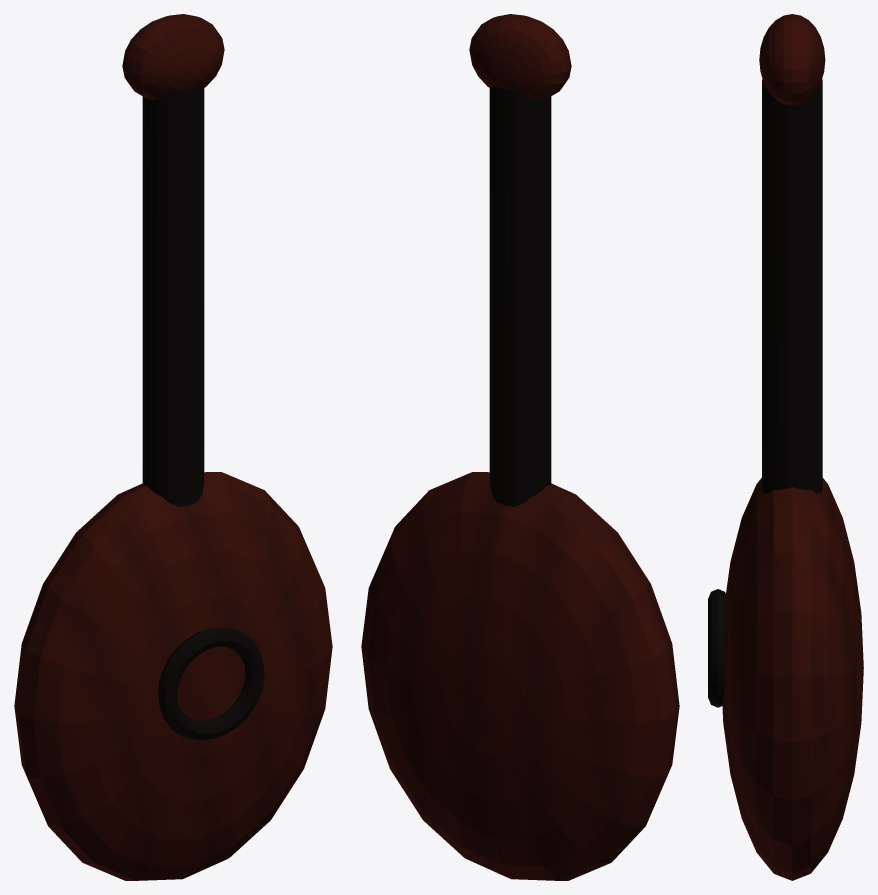
File: instrumento.obj
3 views of the same model, side by side, from view 1: azimuth 30°, elevation 25°; view 2: azimuth 150°, elevation 25°; view 3: azimuth 270°, elevation 25° (orthographic).
Visible parts, largest first — view 1: instrumento; view 2: instrumento; view 3: instrumento.
Boxes of the visible parts, x1,y1,x2,y2 form: instrumento: (14, 14, 332, 880); instrumento: (361, 14, 679, 880); instrumento: (708, 14, 863, 880).
Bounding box in the file's own units: 0.64 × 1.7 × 0.283.
2 materials, 2 textured.
